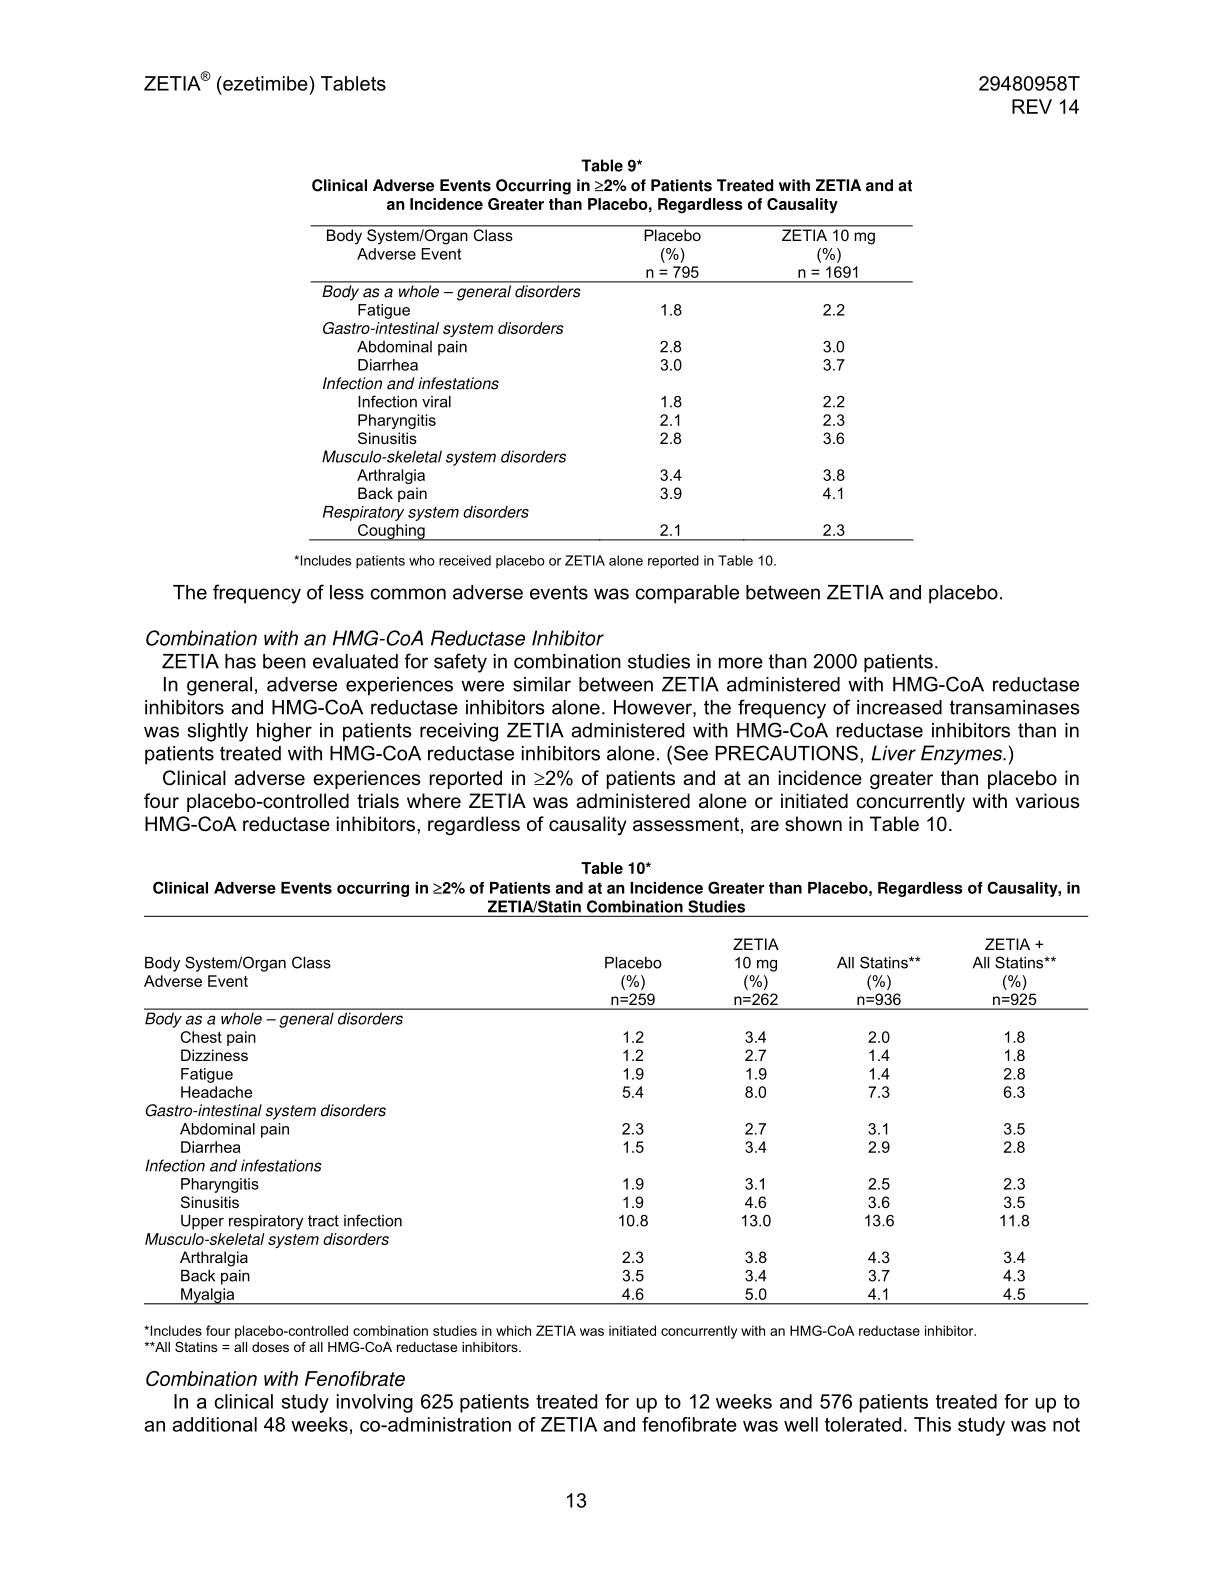partial_lined: (143, 915, 1090, 1306), (309, 225, 913, 541)
